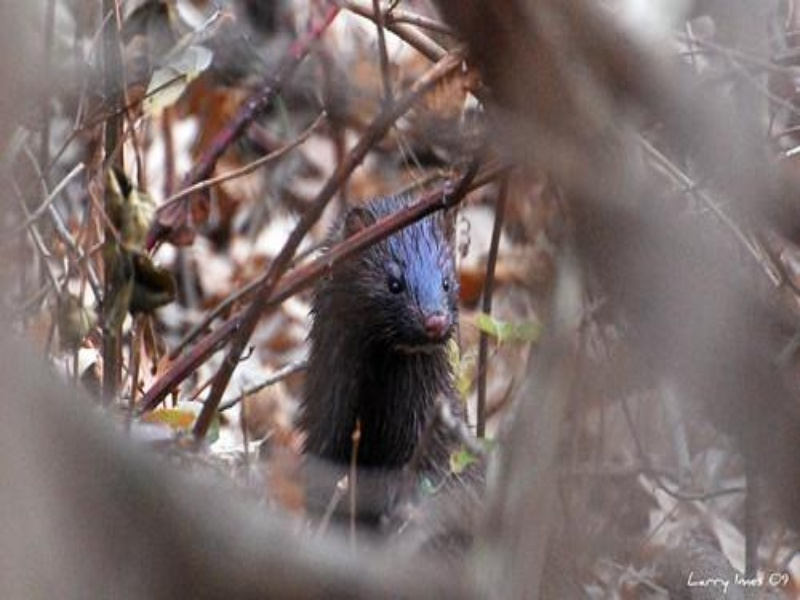minkish: (309, 194, 590, 592)
